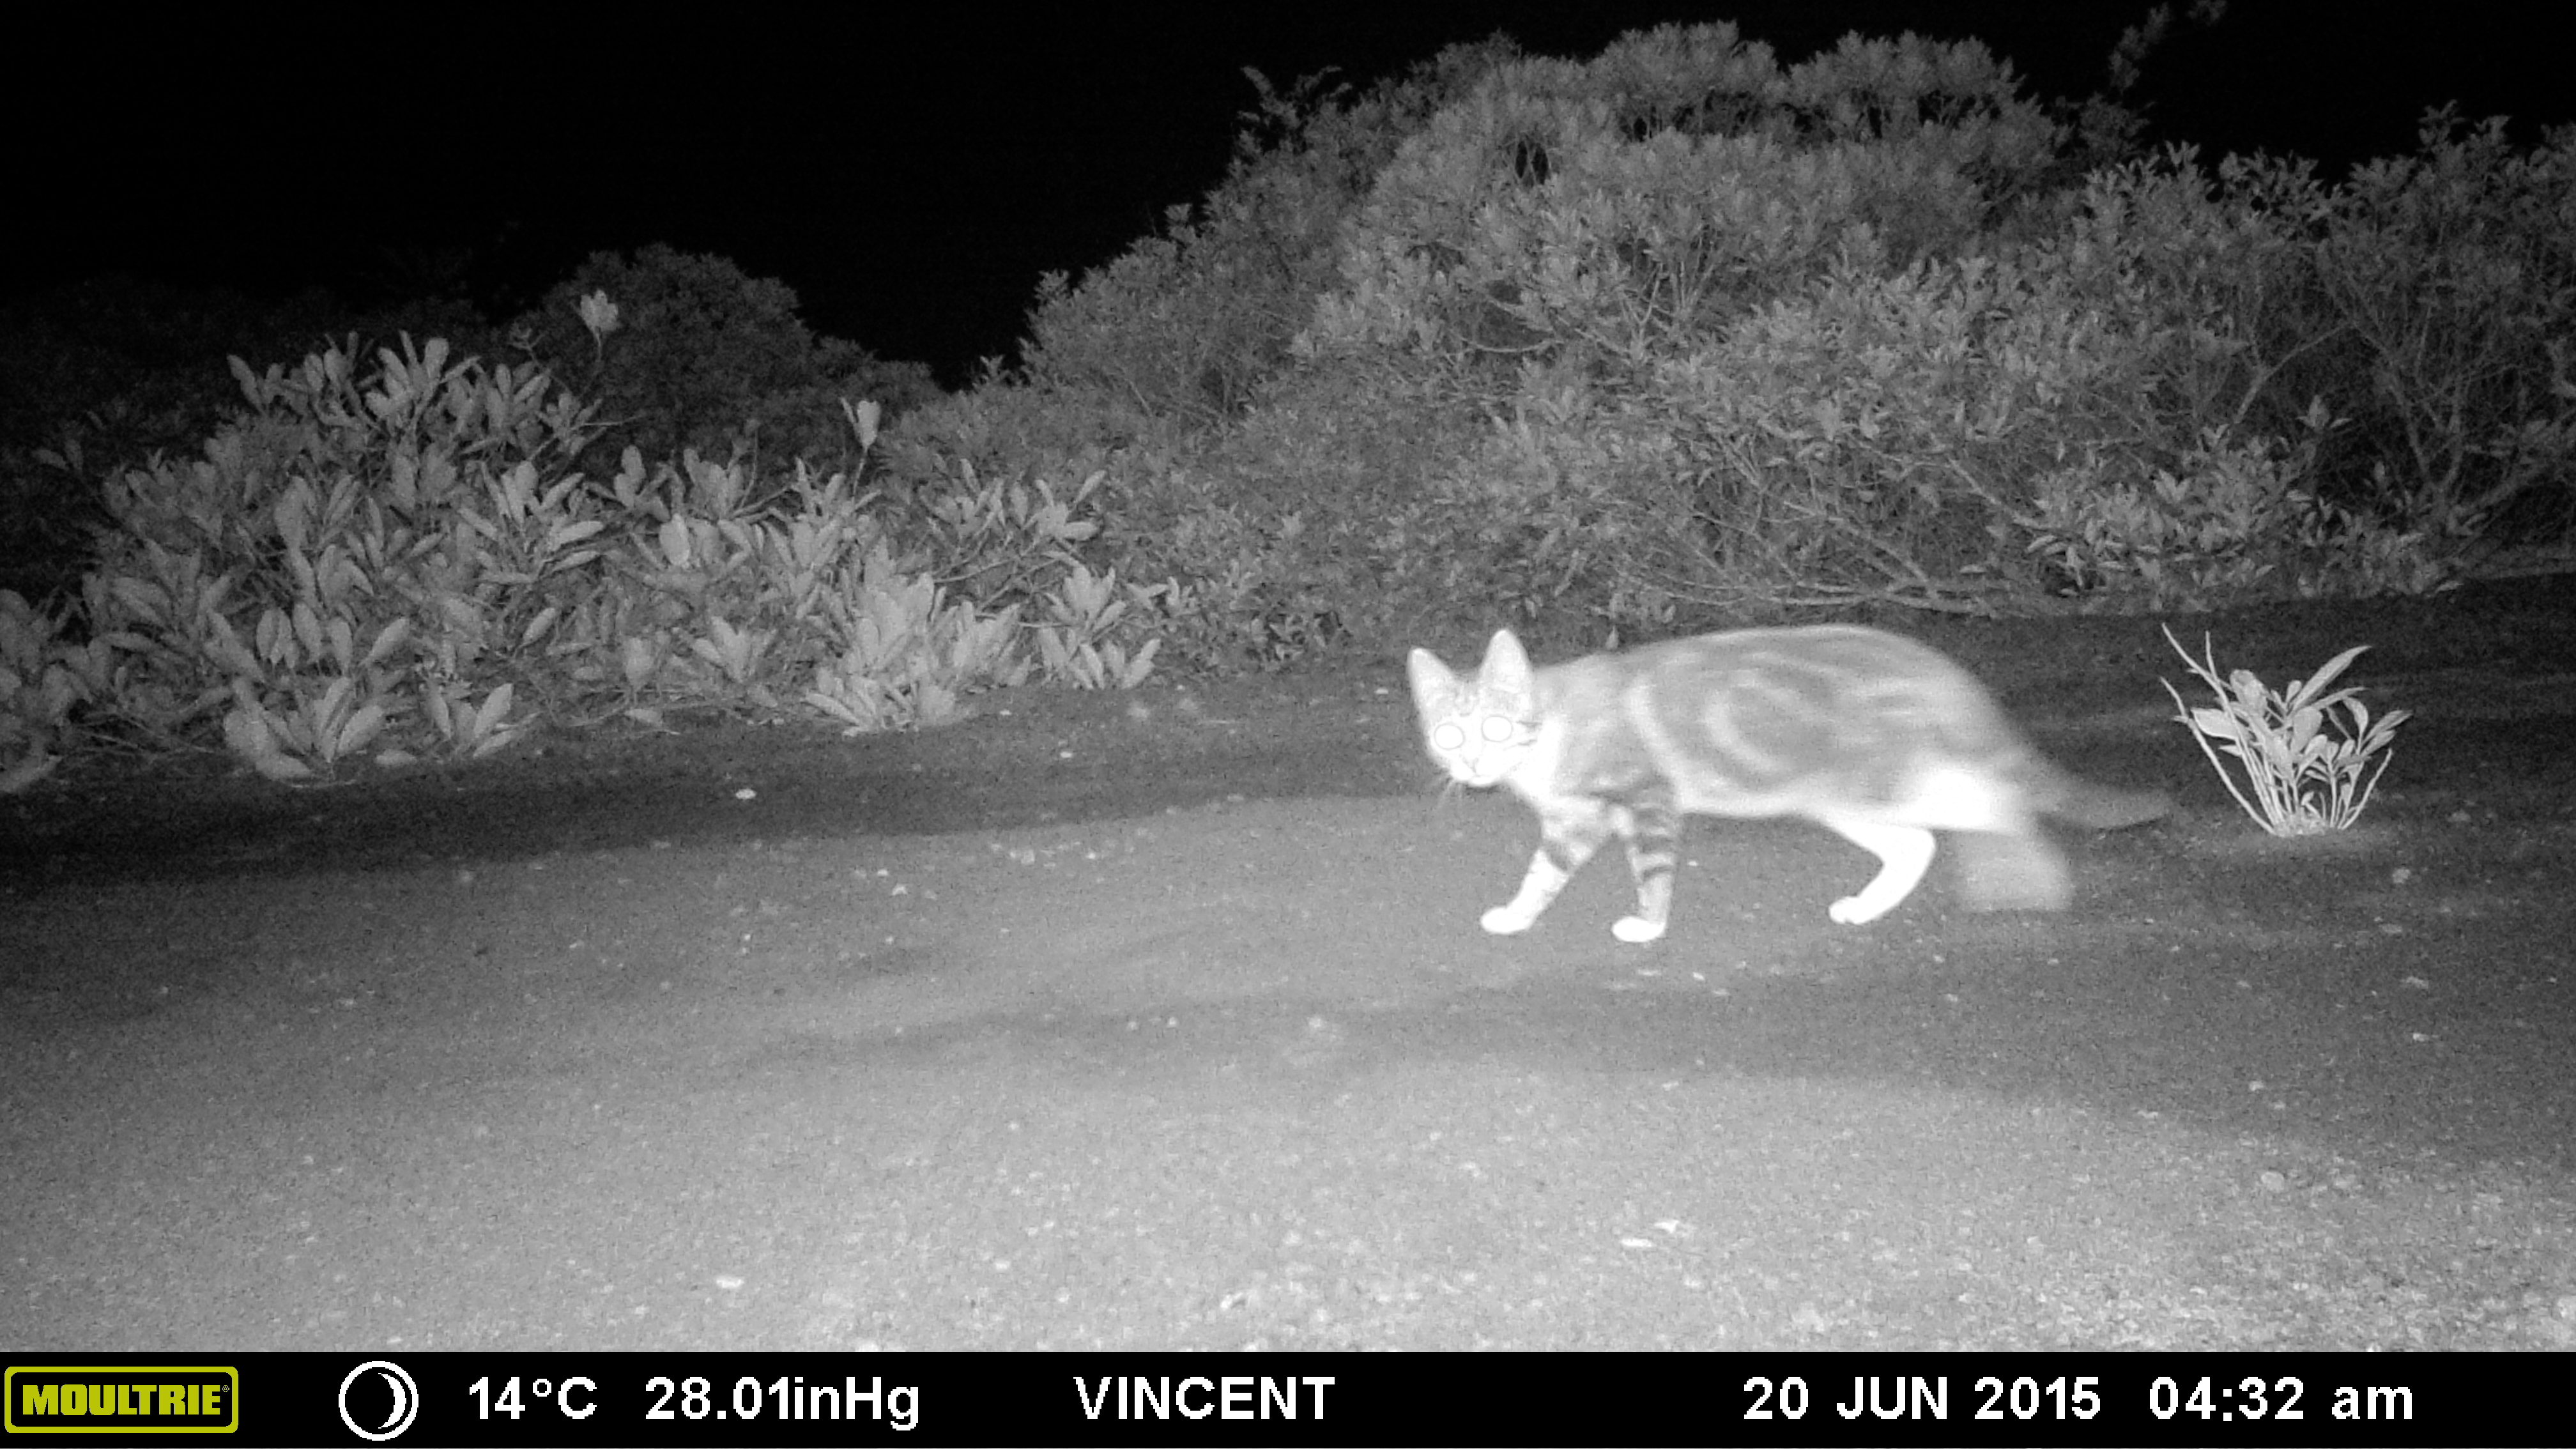cat: (1371, 616, 2204, 989)
